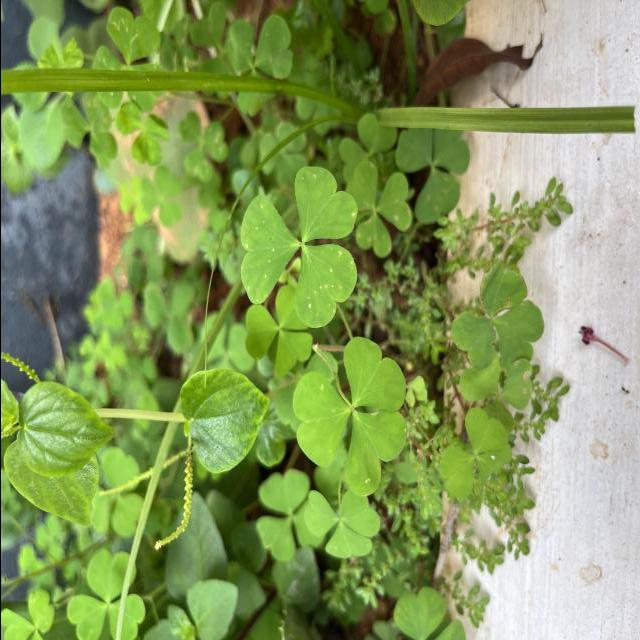Oxalis corniculata: (238, 166, 358, 330), (290, 334, 409, 498), (449, 261, 544, 375), (438, 405, 511, 500), (302, 488, 381, 560)
